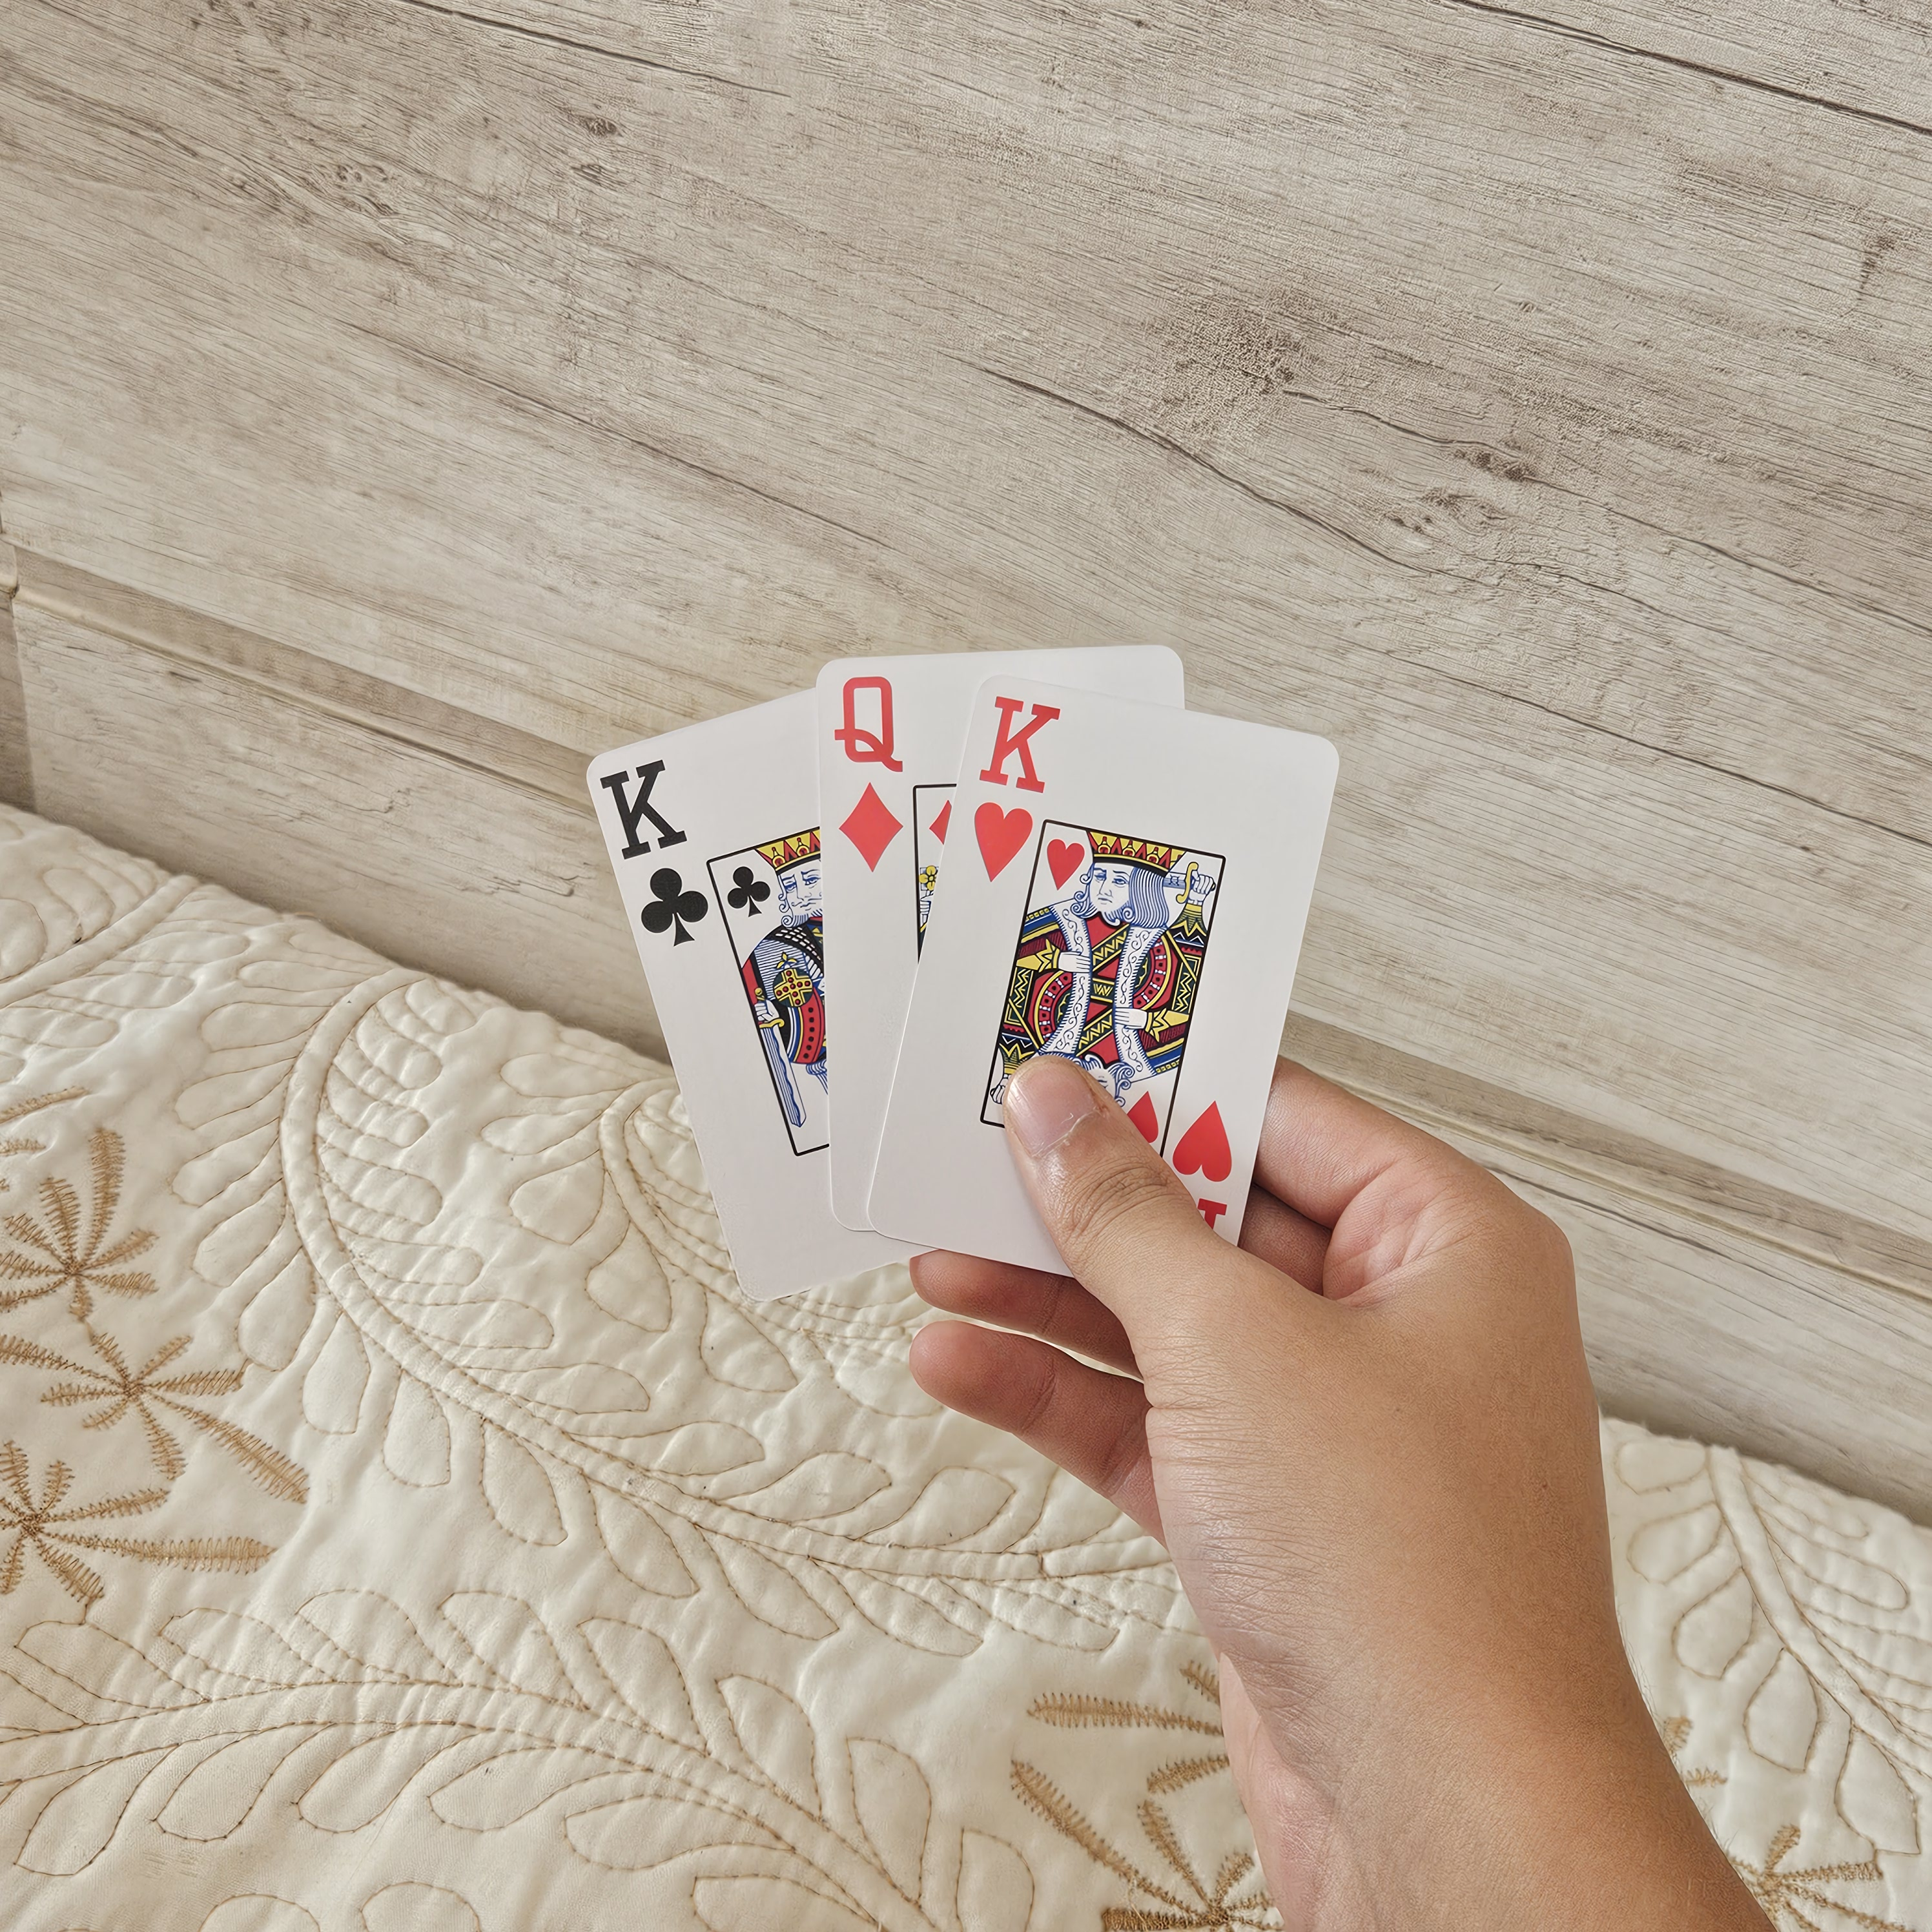KC: (961, 679, 1056, 892)
KP: (591, 747, 715, 957)
QO: (823, 667, 916, 878)
